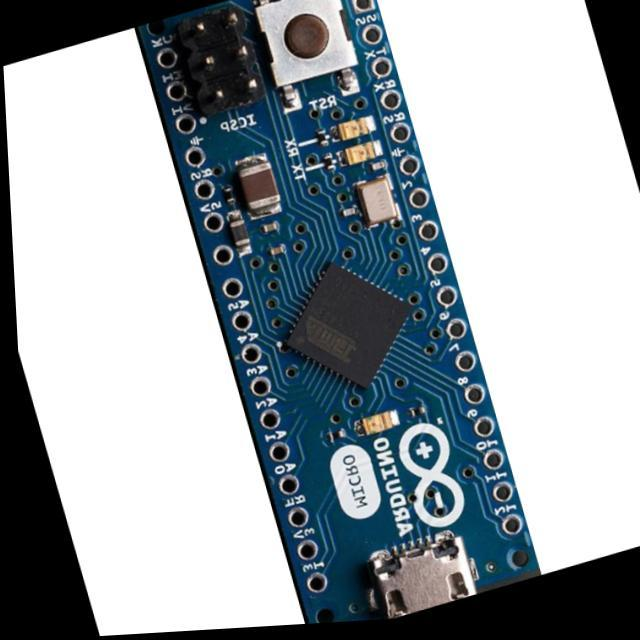Arduino-Micro: (139, 1, 539, 623)
